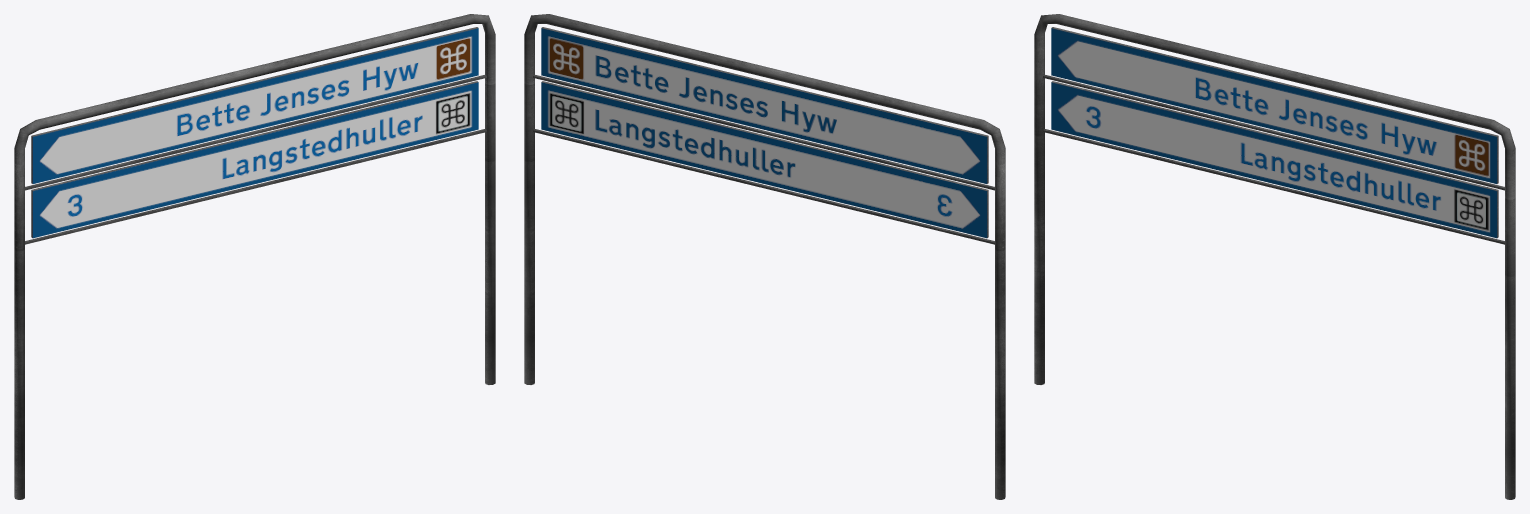
The model's file is SkilteStortFur2.fbx.
3 views of the same model, side by side, from view 1: azimuth 30°, elevation 25°; view 2: azimuth 150°, elevation 25°; view 3: azimuth 330°, elevation 25° (orthographic).
Visible parts, largest first — view 1: Skilt_LOD0; view 2: Skilt_LOD0; view 3: Skilt_LOD0.
Part boxes in pixels (x1,y1,x2,y2): Skilt_LOD0: [14, 14, 495, 499]; Skilt_LOD0: [524, 14, 1005, 499]; Skilt_LOD0: [1034, 14, 1515, 499].
Size of what is drawn, in the model's own units: 255 by 190 by 5.
